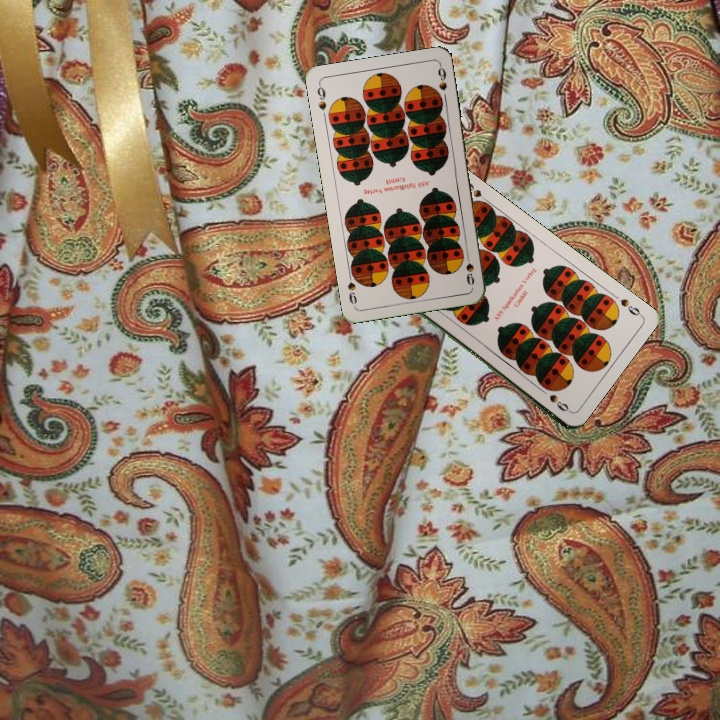S9: (616, 294, 644, 319), (462, 248, 477, 288), (313, 80, 329, 113)
